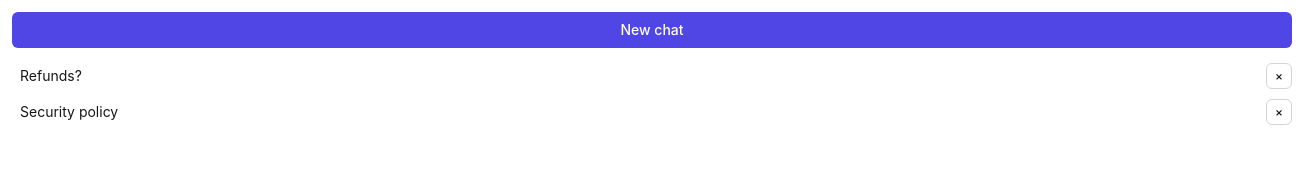
Test: ConversationList › deletes nothing when the confirmation is cancelled
Click the button named "Delete chat: Refunds?": (1279, 76) [1266, 63, 1292, 89]
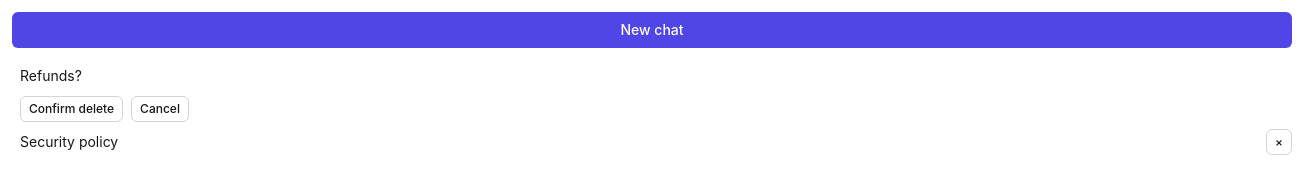
Click the button "Cancel": (160, 109) [131, 96, 189, 122]
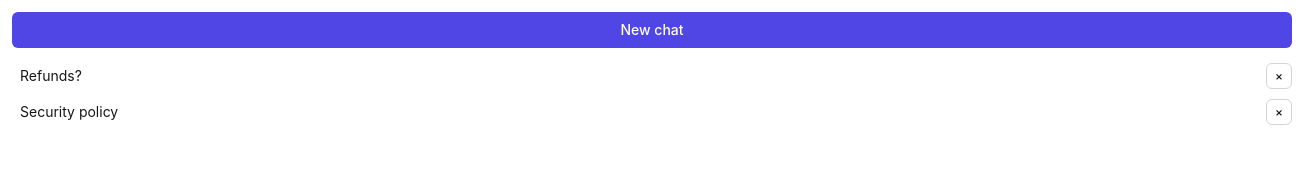
Result: the button "Confirm delete" is gone
